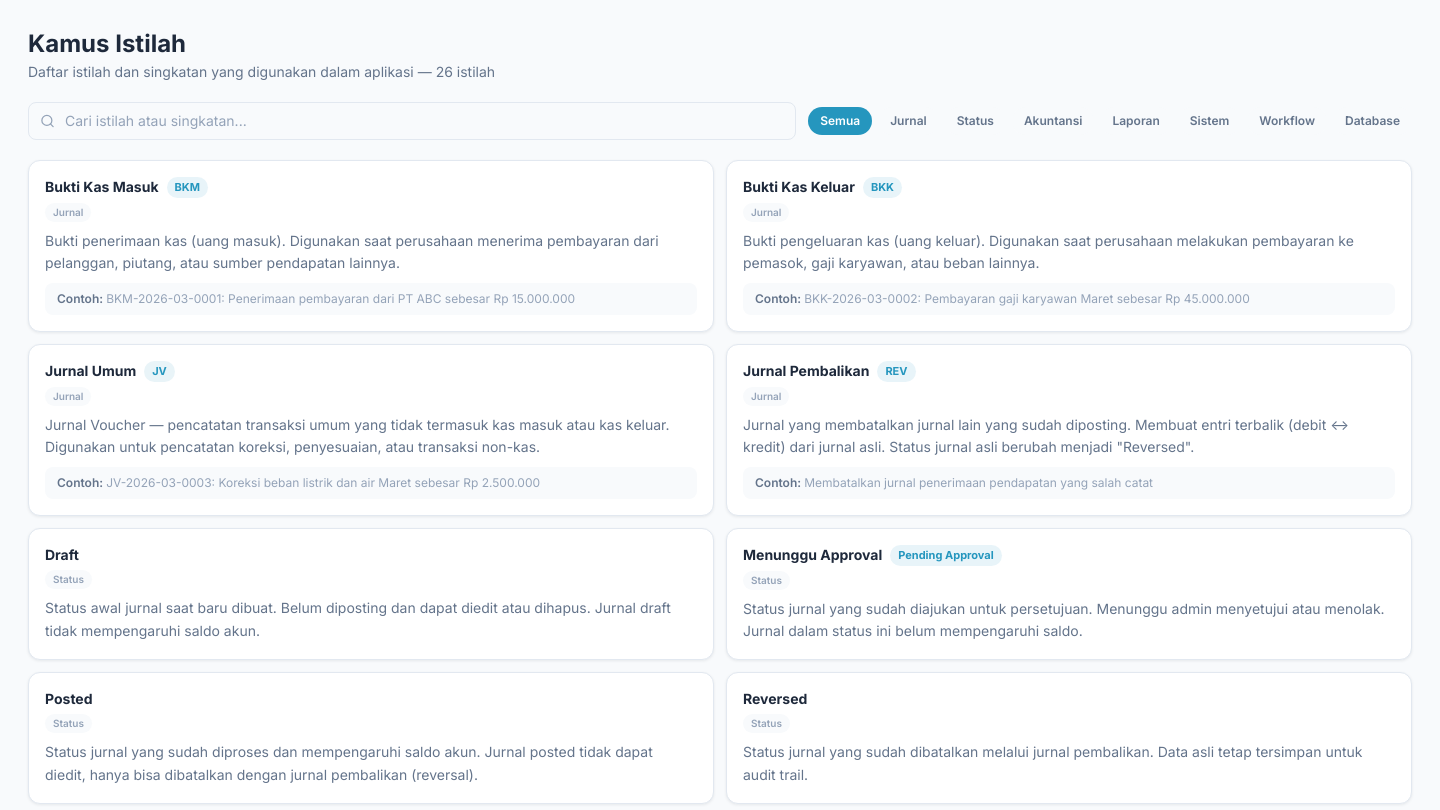
Test: GlossaryPage › search berdasarkan singkatan
The image size is (1440, 810).
Step 1. Type "BKM" into the field with placeholder "Cari istilah atau singkatan..." → (412,121), box x1=28 y1=102 x2=796 y2=140
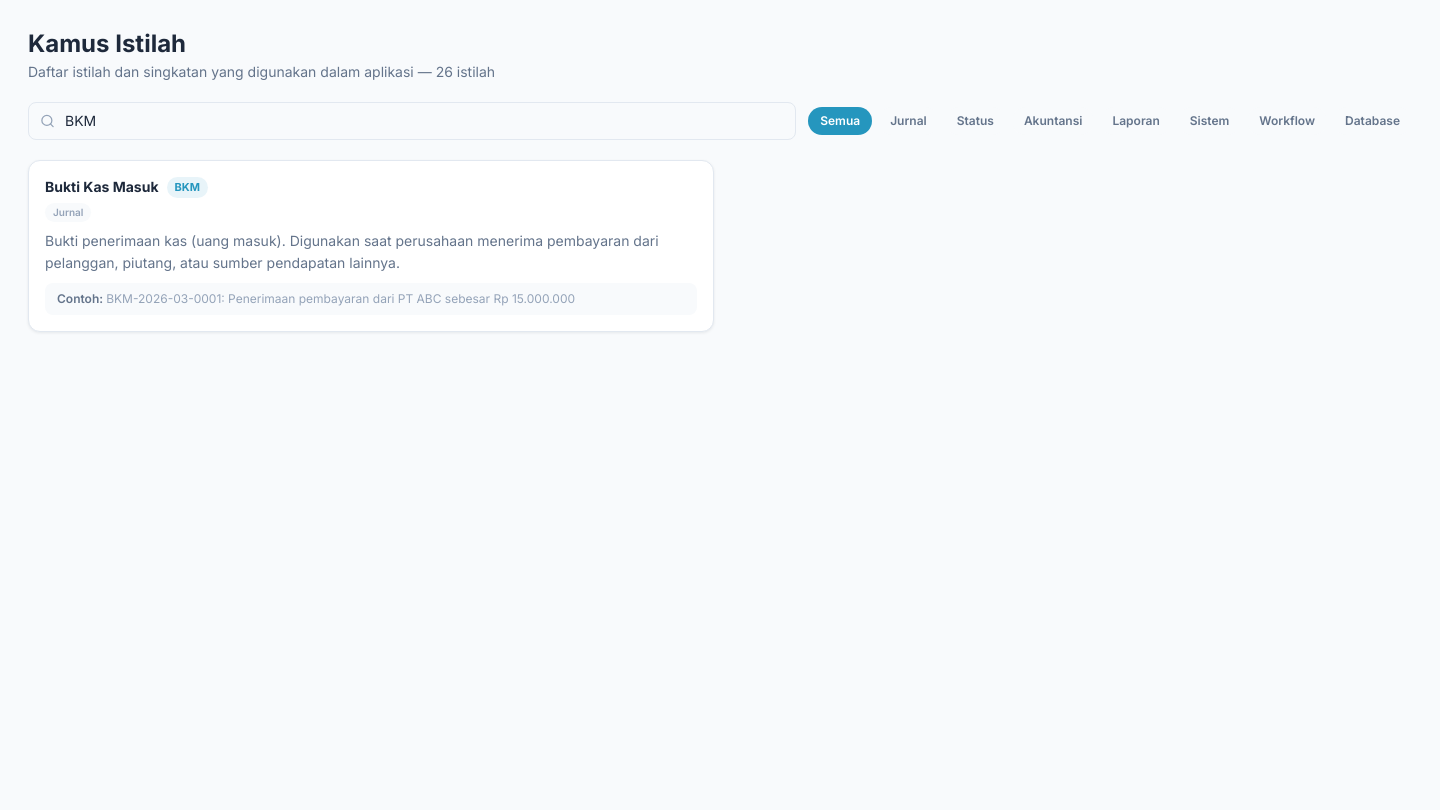
Check: the heading "Bukti Kas Masuk" is shown, box x1=45 y1=177 x2=158 y2=197
Check: the heading "Jurnal Umum" is gone
